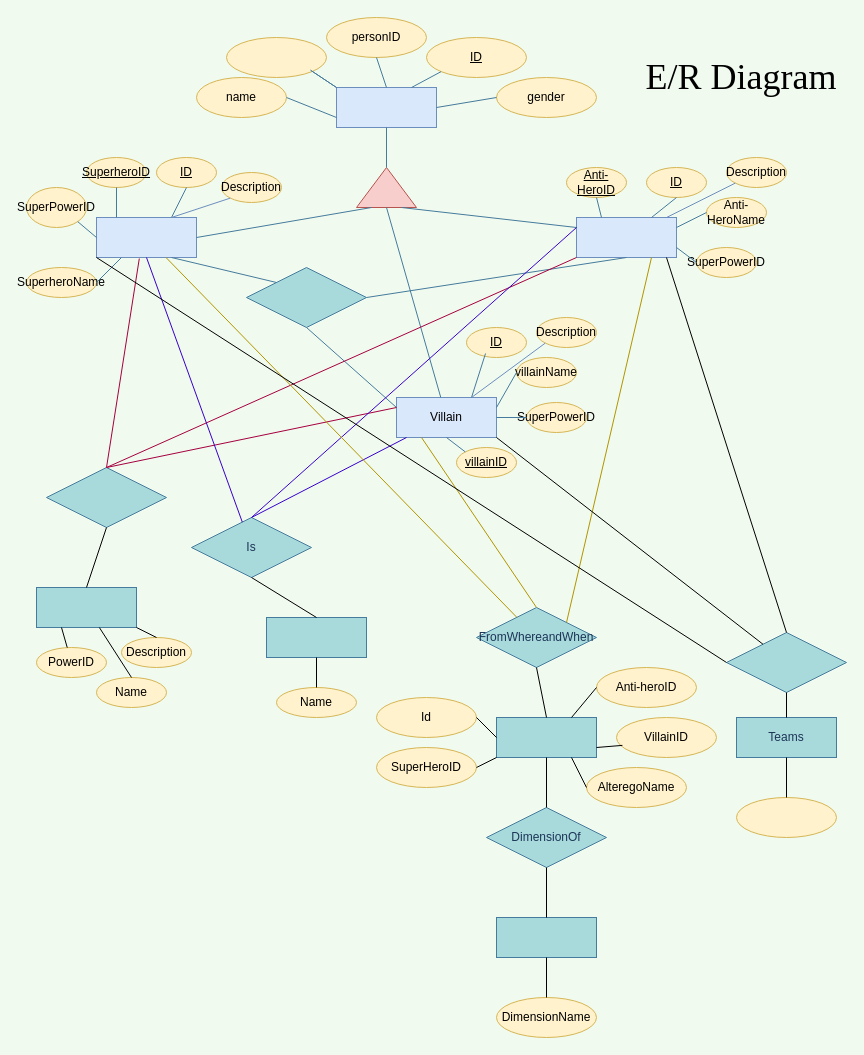
Image size: 864x1055. Some labels were removed from this diagram. Here are the shapes that lost their labels. From the top down, the centre of each, then its label:
At [276,57]: "DOB".
At [386,107]: "Normal Identity".
At [386,187]: "ISA".
At [146,237]: "Superhero".
At [626,237]: "Anti-Hero".
At [306,297]: "Archenemy".
At [106,497]: "PowerOf".
At [86,607]: "SuperPower".
At [316,637]: "Type".
At [786,662]: "TeamOf".
At [546,737]: "Alterego".
At [786,817]: "TeamName".
At [546,937]: "Dimension".
